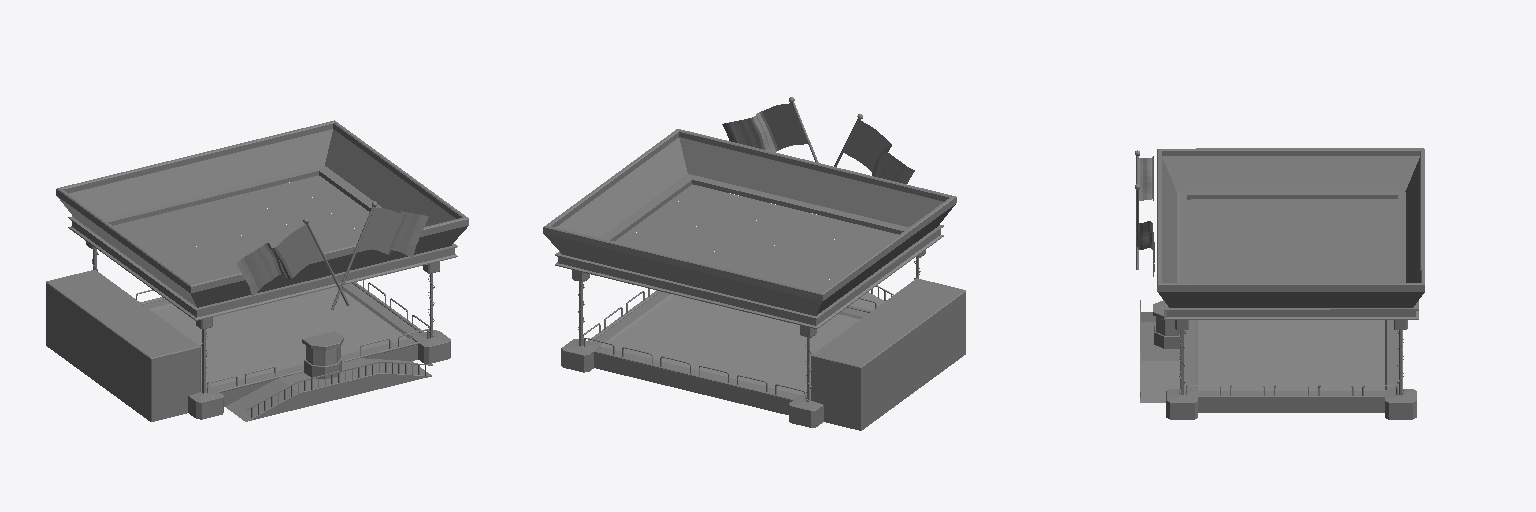
Rendered from puestoCarrosChocones.obj.
The picture shows the model from 3 angles: view 1: azimuth 30°, elevation 25°; view 2: azimuth 150°, elevation 25°; view 3: azimuth 270°, elevation 25°; orthographic projection.
Visible parts, largest first — view 1: panel_1_005, piso; view 2: panel_1_005, piso; view 3: panel_1_005, piso.
Part boxes in pixels (bbox=[...]): panel_1_005: bbox=[46, 120, 468, 421]; piso: bbox=[153, 287, 408, 386]; panel_1_005: bbox=[543, 97, 965, 430]; piso: bbox=[604, 295, 860, 394]; panel_1_005: bbox=[1135, 148, 1424, 419]; piso: bbox=[1198, 320, 1384, 390].
Size of the model in its own units: 85.82 by 51.23 by 71.08.